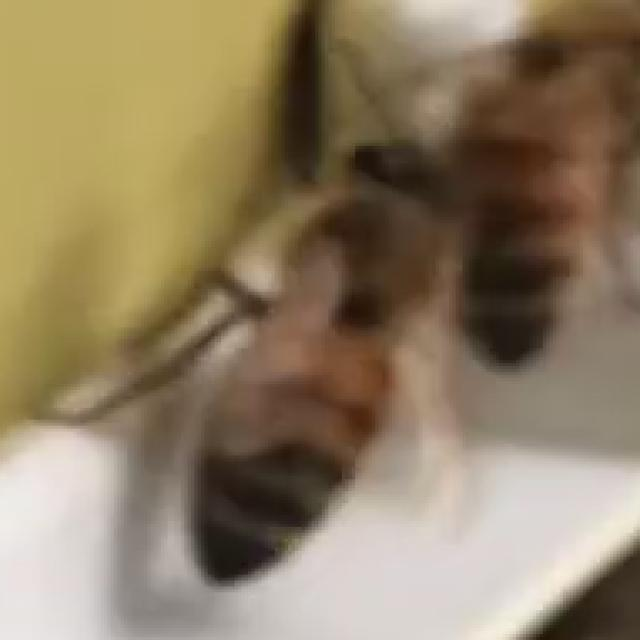honeybee: (159, 125, 417, 582), (417, 32, 624, 385)
